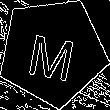M_N: (26, 22, 80, 81)
